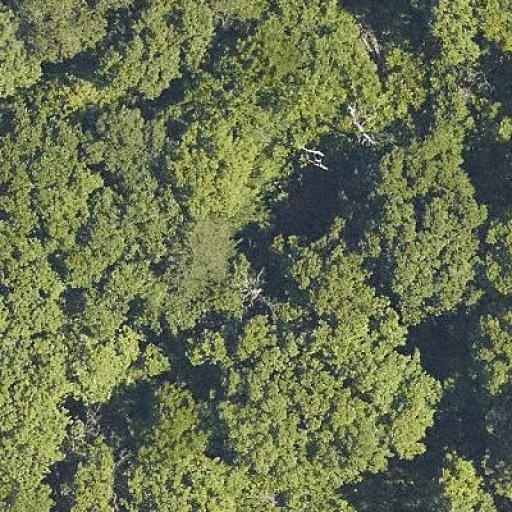tree-top: (226, 364, 380, 494), (276, 233, 402, 374), (227, 3, 359, 125), (378, 190, 490, 322), (70, 184, 159, 320), (0, 104, 88, 236), (166, 110, 268, 214), (374, 97, 478, 197), (99, 4, 220, 86), (0, 331, 64, 478), (133, 376, 217, 463), (379, 364, 447, 466), (126, 450, 236, 512), (421, 0, 512, 69), (0, 240, 61, 342), (68, 328, 144, 409), (88, 102, 162, 182), (18, 0, 114, 58), (163, 213, 226, 301), (0, 12, 41, 112), (431, 453, 500, 512), (56, 446, 116, 512), (466, 311, 512, 392), (182, 324, 237, 377)
